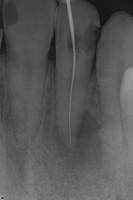Furcation Involvement: (55, 109, 101, 168)
